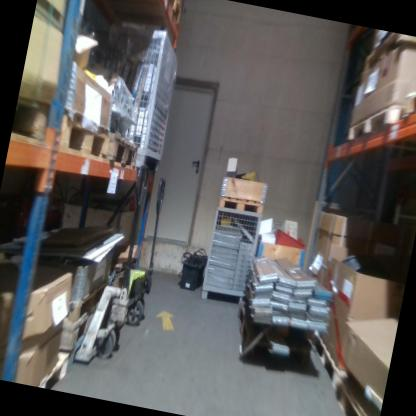pallet: (9, 96, 117, 164), (300, 326, 364, 397), (51, 292, 110, 364), (344, 95, 410, 152), (57, 266, 109, 326), (29, 344, 75, 391), (333, 377, 385, 416), (105, 128, 141, 176), (216, 192, 264, 221), (152, 0, 183, 27), (402, 69, 416, 115)
pallet_truck: (49, 150, 159, 375), (121, 176, 173, 339)
small_load_carrier: (176, 248, 208, 291)
stillage: (57, 3, 190, 178), (196, 202, 267, 314)
